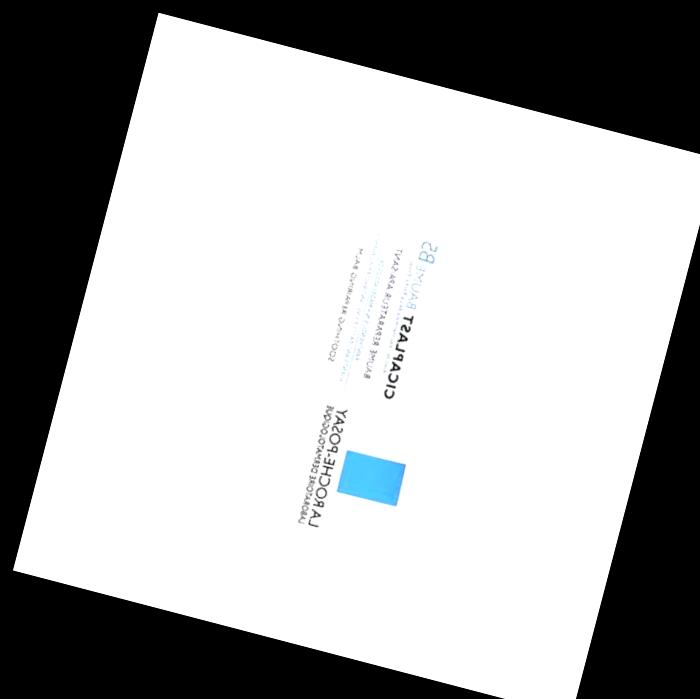cosmetic: (207, 97, 535, 620)
